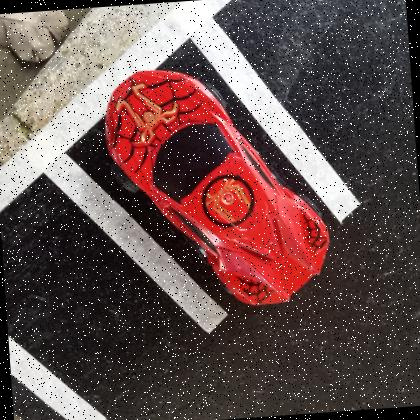Car: (102, 69, 331, 304)
